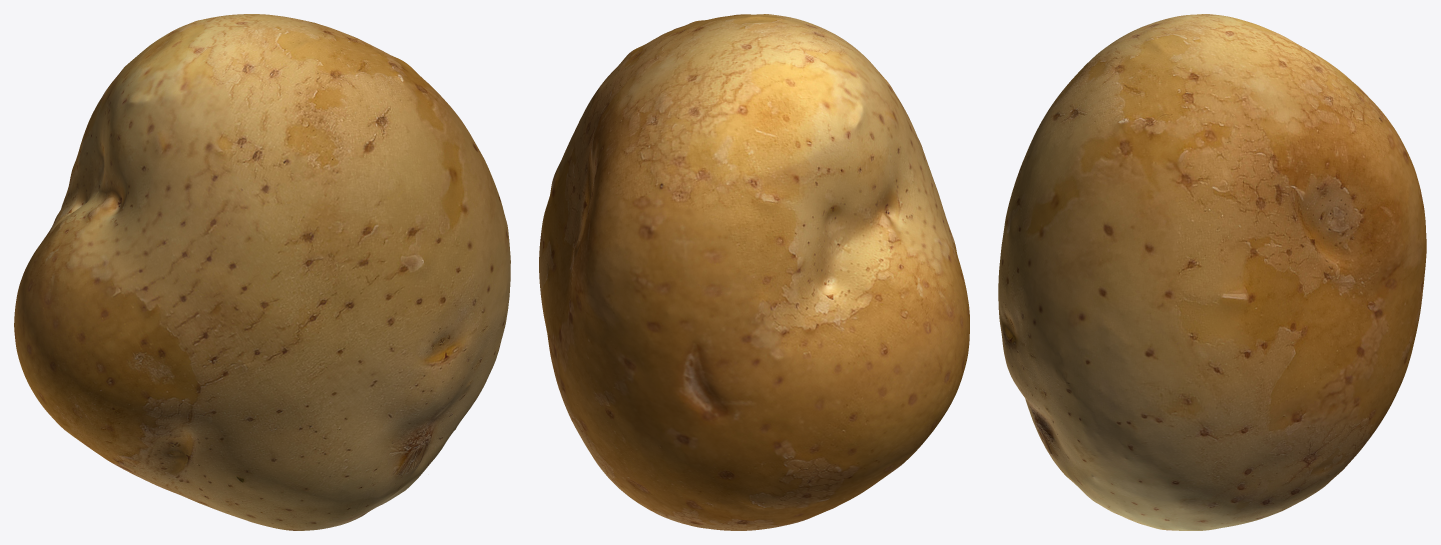
Rendered from new_potato.glb.
3 renders of one model, left to right at view 1: azimuth 30°, elevation 25°; view 2: azimuth 150°, elevation 25°; view 3: azimuth 270°, elevation 25°, orthographic. The views are drawn at different scales.
Parts seen in each view (by area): view 1: Object_3, Object_2, Object_4; view 2: Object_2, Object_3, Object_4; view 3: Object_3, Object_2, Object_4.
Boxes of the visible parts, box(x1,y1,x2,y2) form: Object_3: box(16, 14, 510, 530); Object_2: box(14, 14, 510, 530); Object_4: box(14, 14, 510, 530); Object_2: box(539, 14, 969, 530); Object_3: box(539, 14, 969, 530); Object_4: box(539, 14, 969, 530); Object_3: box(998, 15, 1426, 530); Object_2: box(998, 14, 1426, 530); Object_4: box(998, 15, 1426, 530).
Size of the model in its own units: 2.15 by 2.34 by 1.93.
1 material, 1 textured.
